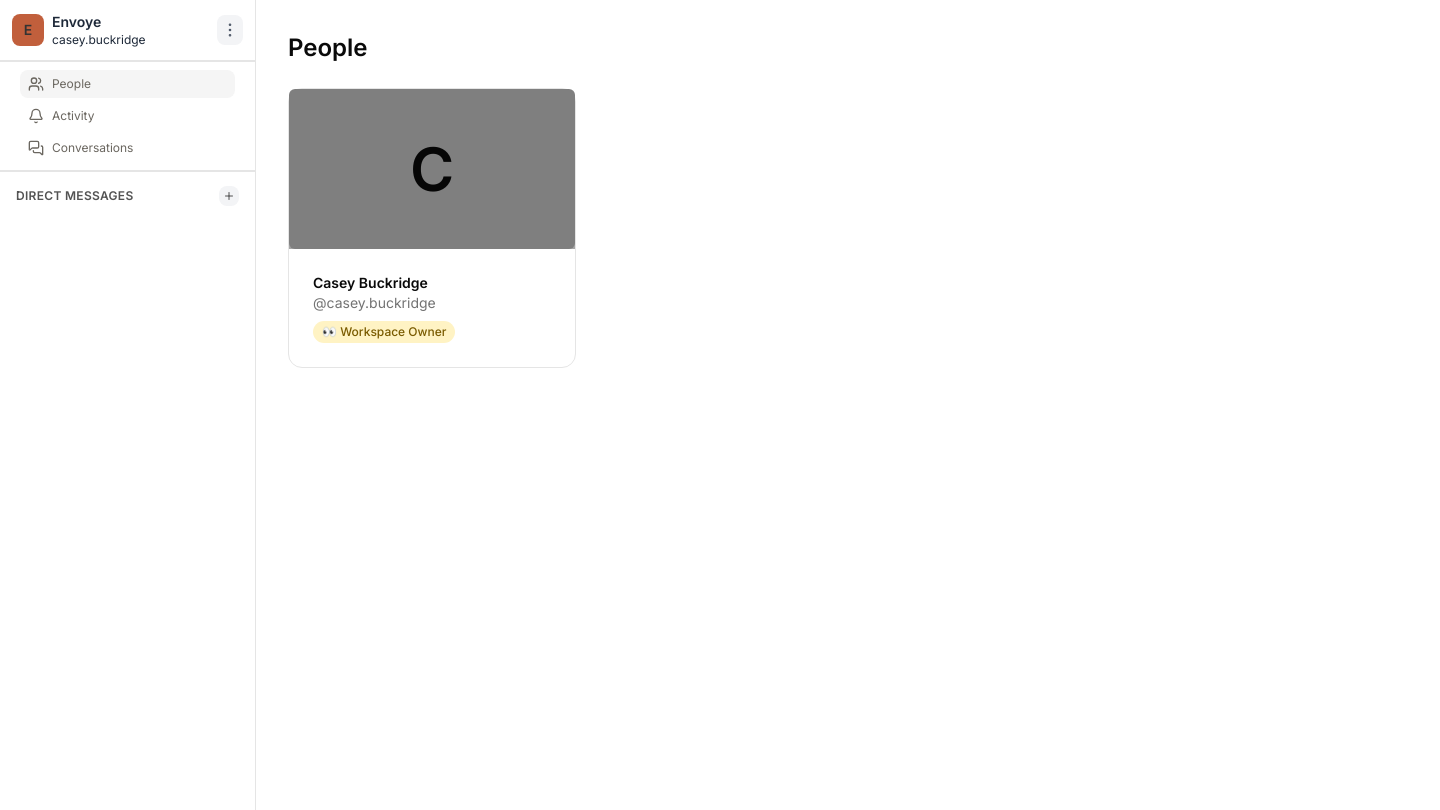
Test: Invite Teammate › allows user to input multiple emails
Click the button named "Workspace menu" at (230, 30), box 217,15 -> 243,45
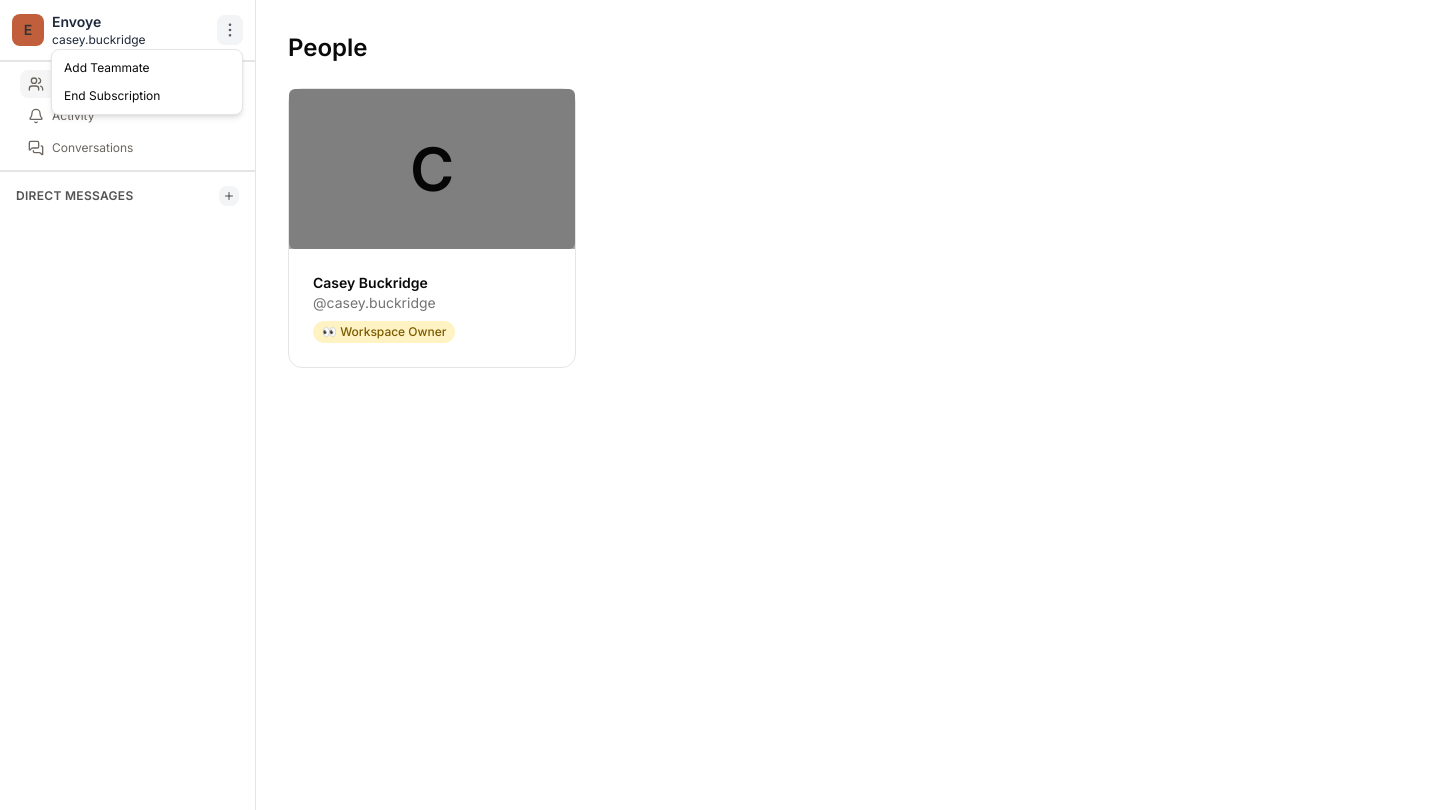
Click the menu item "Add Teammate" at (107, 68), box 64,60 -> 150,75
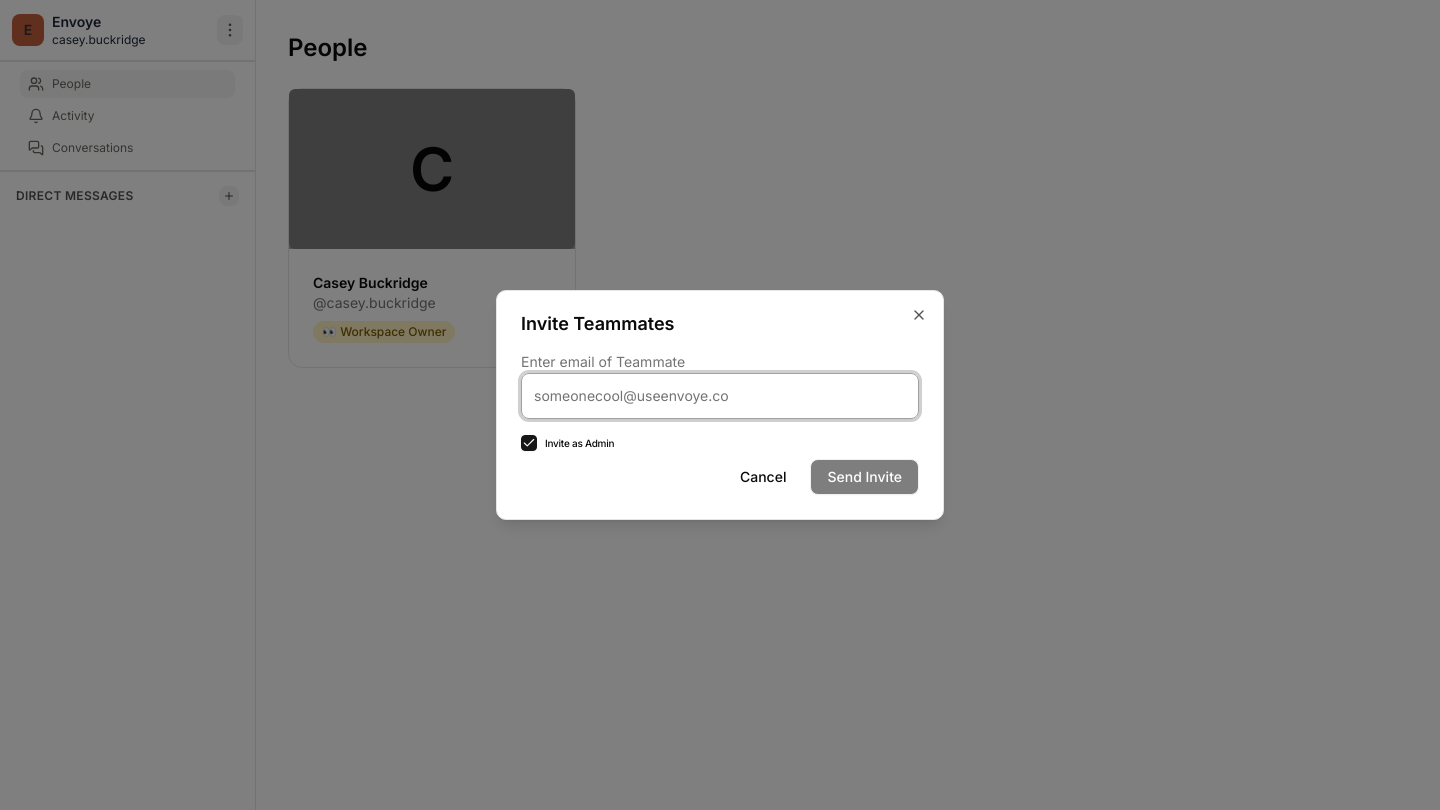
Type "tumise@useenvoye.io" into the field with test id "email-pill-input" at (720, 396), box 534,382 -> 906,410
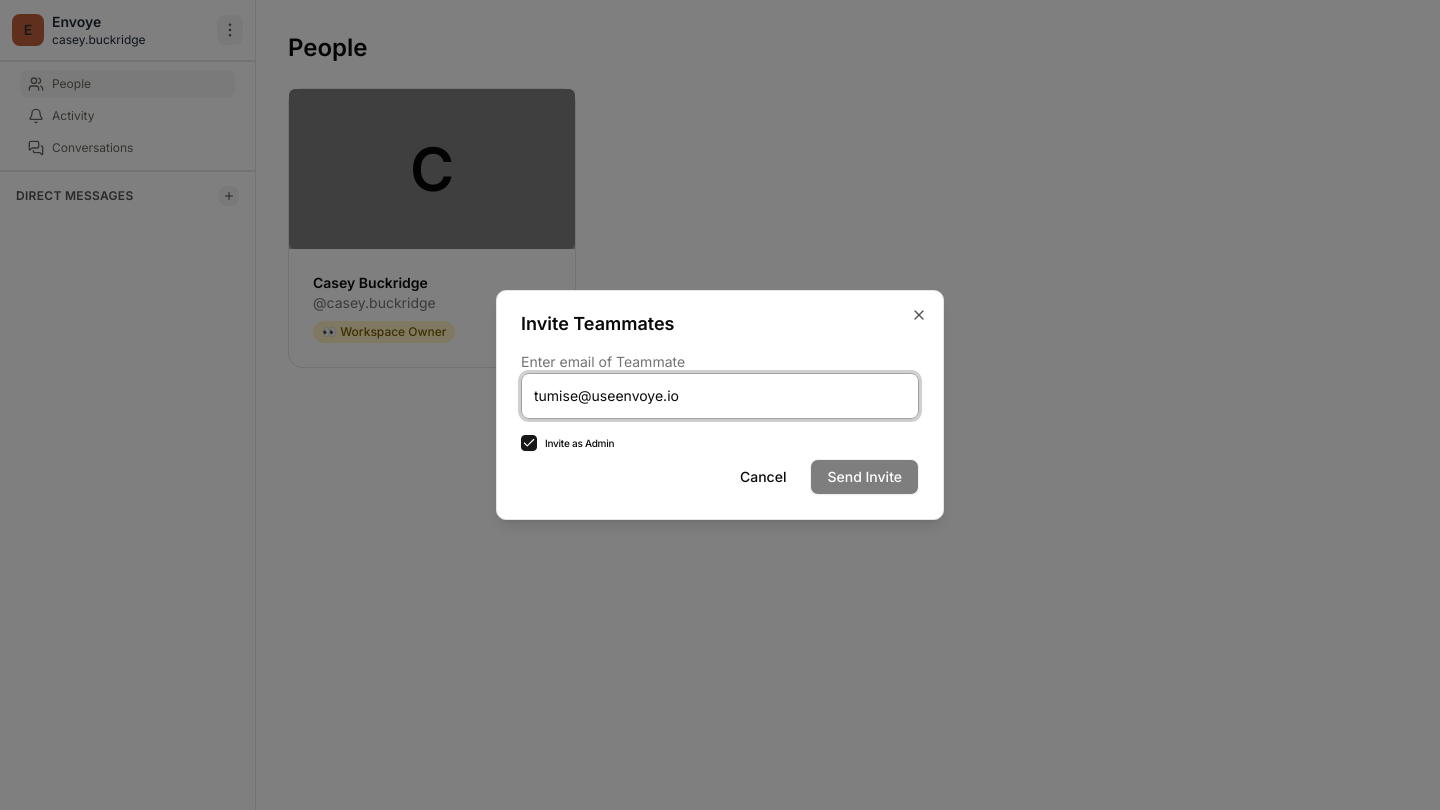
Press Tab
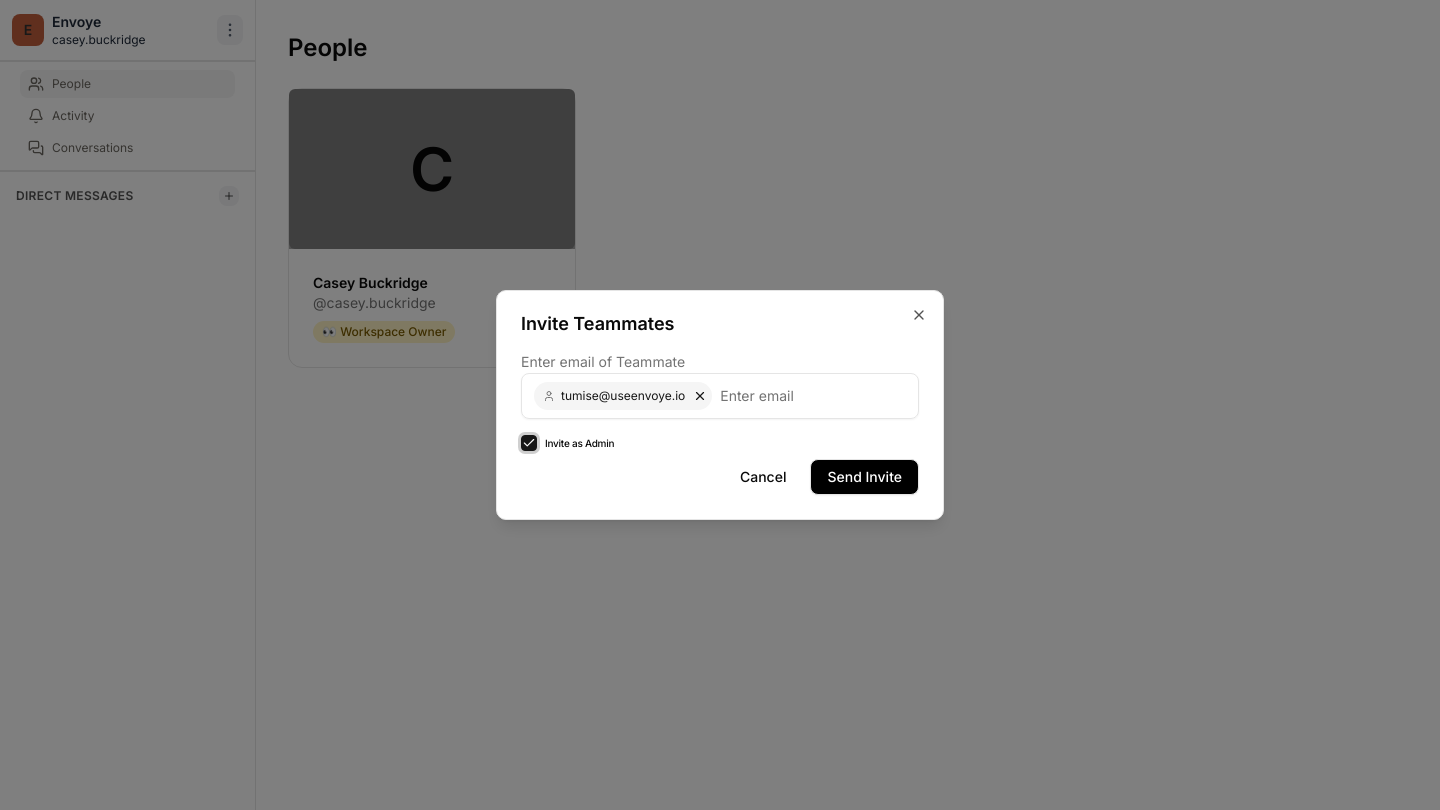
Type "teammate@useenvoye.io" into the field with test id "email-pill-input" at (813, 396), box 720,382 -> 906,410
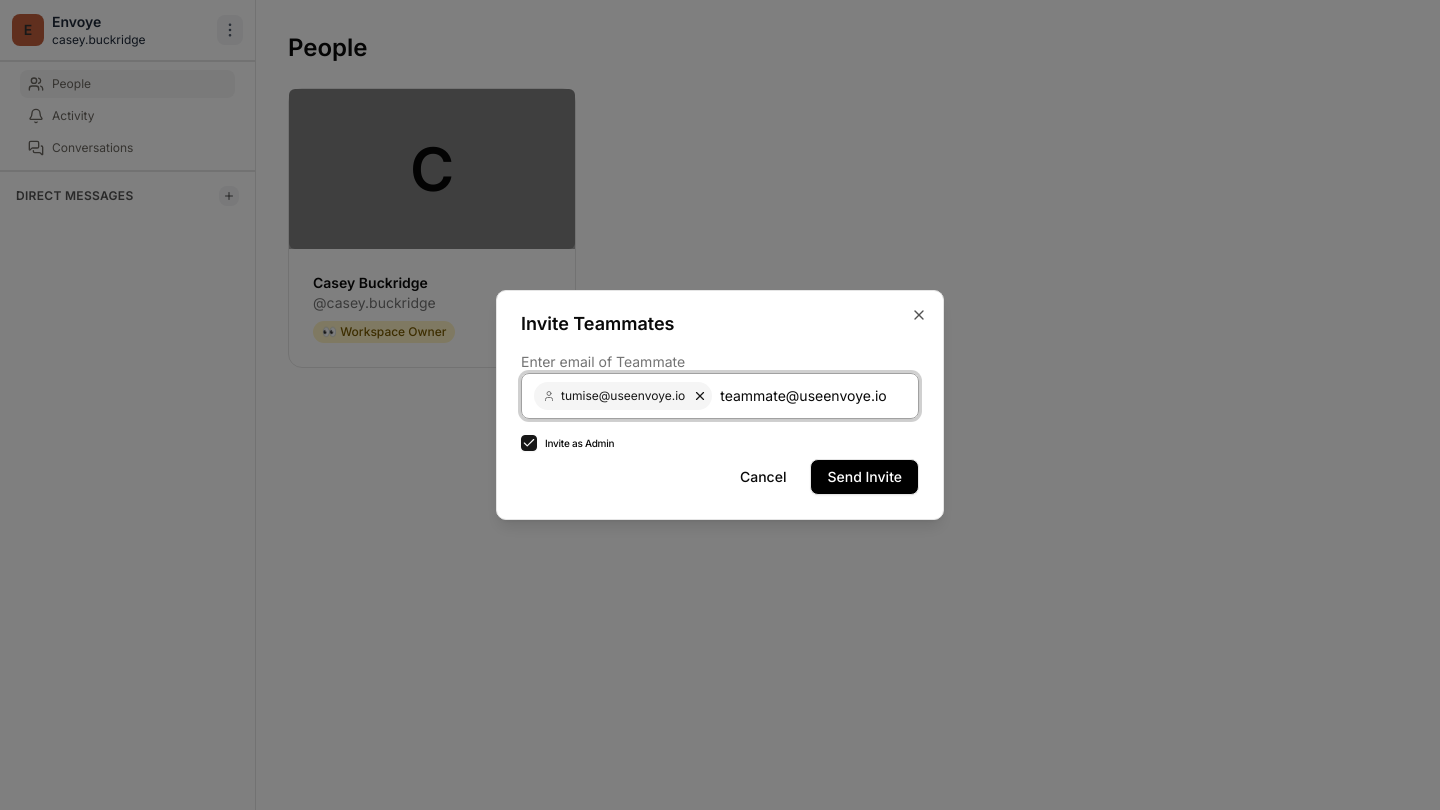
Press Tab
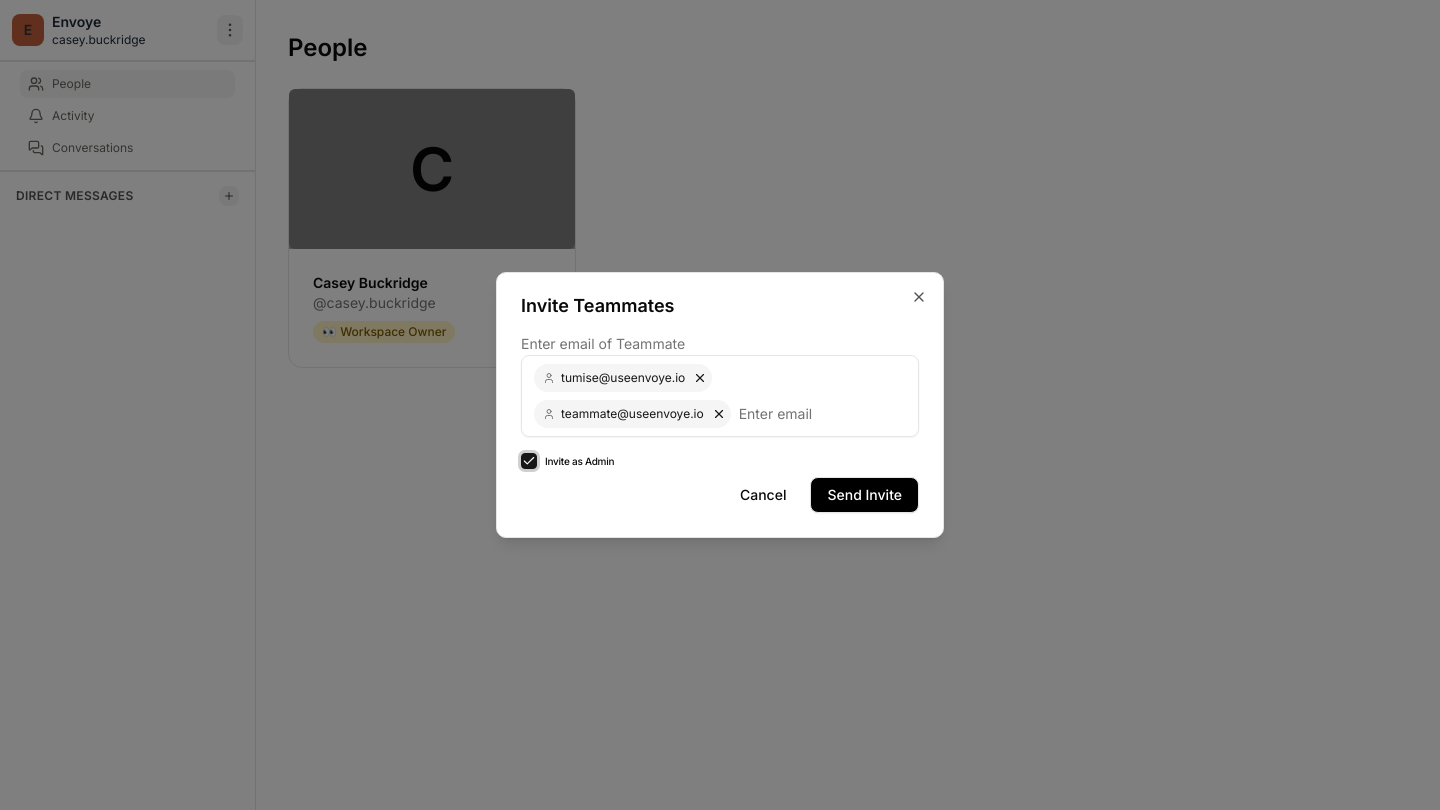
Expected: the text "tumise@useenvoye.io" is shown, 561,370 -> 685,386
Expected: the text "teammate@useenvoye.io" is shown, 561,406 -> 704,422
